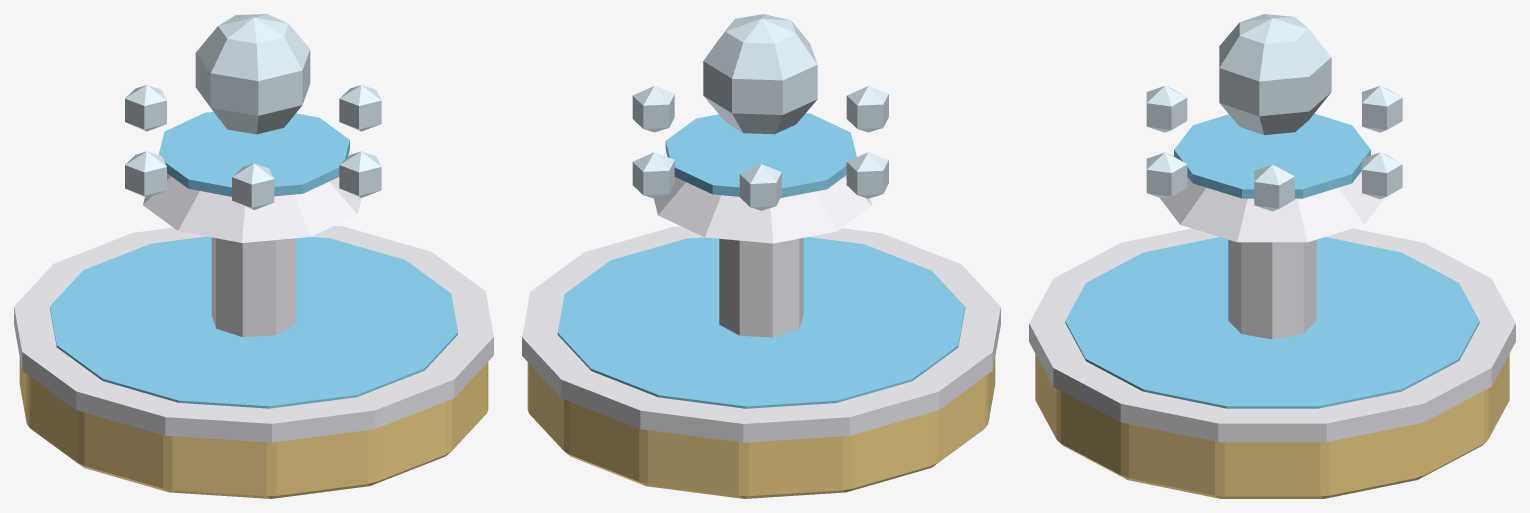
The model's file is CF_Fountain.fbx.
3 renders of one model, left to right at view 1: azimuth 30°, elevation 25°; view 2: azimuth 150°, elevation 25°; view 3: azimuth 270°, elevation 25°, orthographic.
Visible parts, largest first — view 1: CF_Fountain_Water, CF_Fountain_Stone, CF_Fountain_Basin, CF_Fountain_Spray; view 2: CF_Fountain_Water, CF_Fountain_Stone, CF_Fountain_Basin, CF_Fountain_Spray; view 3: CF_Fountain_Water, CF_Fountain_Stone, CF_Fountain_Basin, CF_Fountain_Spray.
Boxes of the visible parts, left/top/right/bottom form: CF_Fountain_Water: left=50, top=112, right=457, bottom=408; CF_Fountain_Stone: left=14, top=173, right=493, bottom=442; CF_Fountain_Basin: left=19, top=357, right=488, bottom=498; CF_Fountain_Spray: left=125, top=14, right=381, bottom=209; CF_Fountain_Water: left=557, top=113, right=965, bottom=408; CF_Fountain_Stone: left=522, top=175, right=1000, bottom=442; CF_Fountain_Basin: left=527, top=358, right=995, bottom=498; CF_Fountain_Spray: left=632, top=14, right=888, bottom=210; CF_Fountain_Water: left=1065, top=113, right=1479, bottom=408; CF_Fountain_Stone: left=1029, top=171, right=1515, bottom=442; CF_Fountain_Basin: left=1035, top=354, right=1509, bottom=498; CF_Fountain_Spray: left=1146, top=14, right=1402, bottom=211.
Size of the model in its own units: 9.16 by 8.2 by 9.4.
